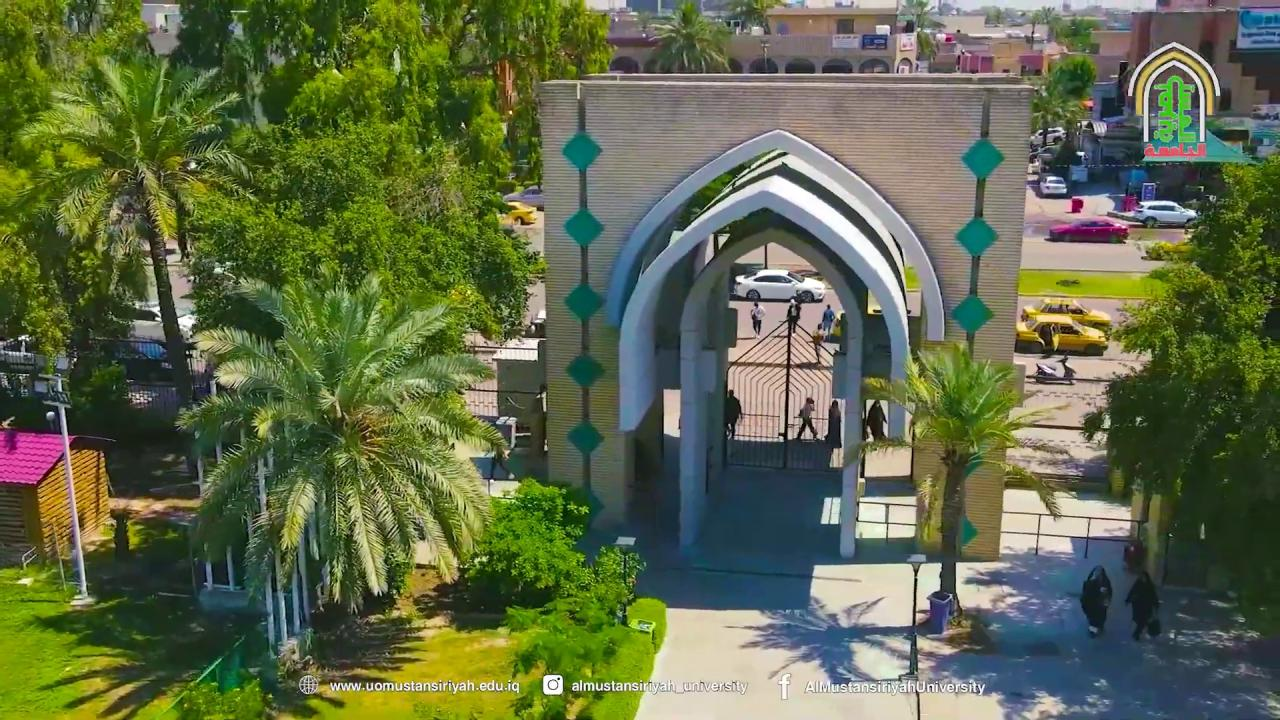car: (1015, 316, 1108, 355), (732, 268, 825, 302), (1022, 297, 1112, 330), (472, 413, 531, 449), (1048, 217, 1128, 242), (1132, 200, 1198, 228), (1032, 355, 1076, 385), (184, 258, 234, 284), (502, 184, 544, 210), (496, 201, 537, 225), (1029, 126, 1066, 147), (1038, 174, 1067, 197)
person: (1124, 570, 1161, 640), (1079, 564, 1113, 636), (796, 397, 820, 441), (866, 398, 887, 441), (724, 388, 741, 438), (824, 400, 840, 448), (750, 301, 766, 338), (786, 296, 801, 335), (821, 304, 835, 341), (1123, 190, 1139, 212)
tree: (173, 265, 509, 619), (1080, 147, 1279, 634), (182, 114, 548, 350), (169, 0, 615, 189), (22, 52, 248, 406), (0, 0, 151, 373), (852, 340, 1075, 559), (416, 0, 614, 189), (1079, 363, 1217, 587), (641, 0, 733, 72), (1027, 52, 1097, 144), (894, 0, 946, 63), (1010, 6, 1060, 50), (724, 0, 784, 35), (1050, 13, 1097, 51), (980, 4, 1004, 27)
